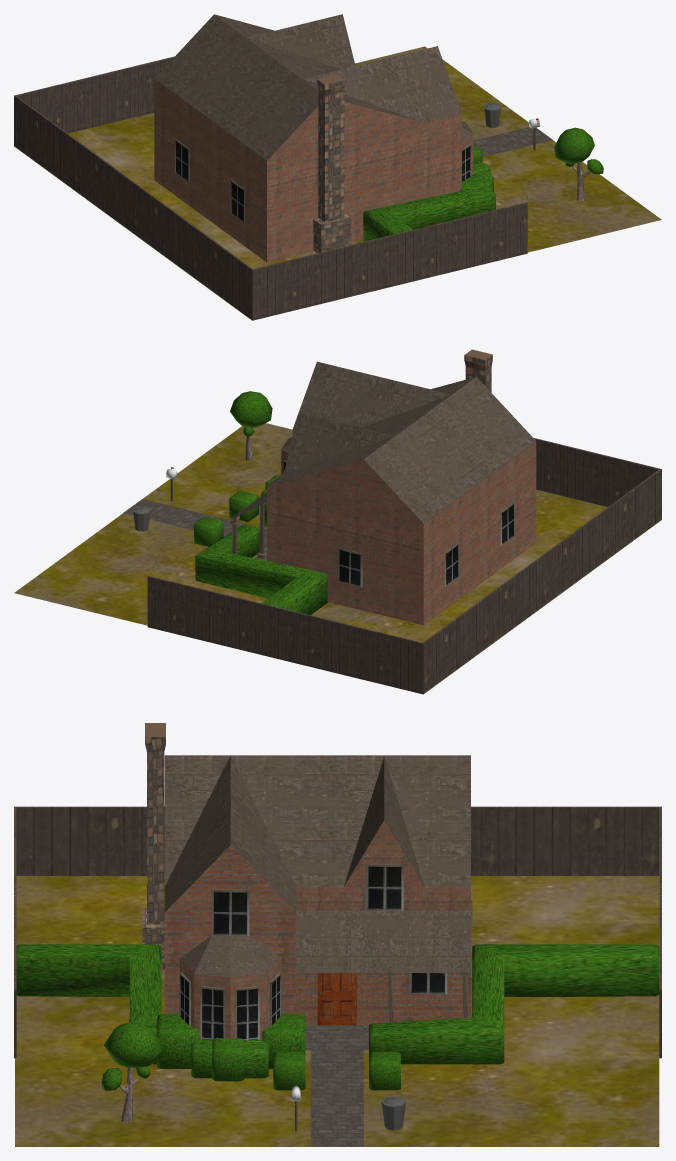
The model's file is House 1.fbx.
3 views of the same model, one above another, from view 1: azimuth 30°, elevation 25°; view 2: azimuth 150°, elevation 25°; view 3: azimuth 270°, elevation 25° (orthographic). The views are drawn at different scales.
Visible parts, largest first — view 1: Building, Fence, Ground, Hedges, Tree, Sidewalk, Window.004, Window.005; view 2: Building, Fence, Ground, Hedges, Sidewalk, Tree, Window.003, Window.004, Window.005; view 3: Ground, Building, Hedges, Fence, Sidewalk, Tree, Door, Window, Window.001, Double Window, Double Window.001, Window.002 (+1 smaller).
Boxes of the visible parts, bbox=[...] form: Building: bbox=[154, 14, 473, 262]; Fence: bbox=[14, 56, 527, 320]; Ground: bbox=[15, 46, 661, 319]; Hedges: bbox=[363, 144, 495, 241]; Tree: bbox=[554, 127, 603, 201]; Sidewalk: bbox=[473, 127, 552, 157]; Window.004: bbox=[175, 138, 189, 182]; Window.005: bbox=[230, 179, 244, 223]; Building: bbox=[229, 349, 536, 625]; Fence: bbox=[147, 438, 661, 694]; Ground: bbox=[14, 423, 661, 692]; Hedges: bbox=[194, 475, 327, 614]; Sidewalk: bbox=[123, 499, 266, 560]; Tree: bbox=[230, 391, 272, 461]; Window.003: bbox=[338, 547, 362, 587]; Window.004: bbox=[445, 543, 459, 586]; Window.005: bbox=[500, 502, 514, 545]; Ground: bbox=[15, 876, 659, 1146]; Building: bbox=[142, 723, 470, 1039]; Hedges: bbox=[16, 944, 659, 1090]; Fence: bbox=[14, 806, 661, 1058]; Sidewalk: bbox=[305, 1025, 368, 1146]; Tree: bbox=[101, 1021, 165, 1122]; Door: bbox=[317, 973, 356, 1025]; Window: bbox=[211, 889, 249, 935]; Window.001: bbox=[366, 864, 403, 910]; Double Window: bbox=[200, 986, 225, 1040]; Double Window.001: bbox=[235, 986, 259, 1040]; Window.002: bbox=[409, 973, 447, 994].
Size of the model in its own units: 1020 by 1014 by 408.
